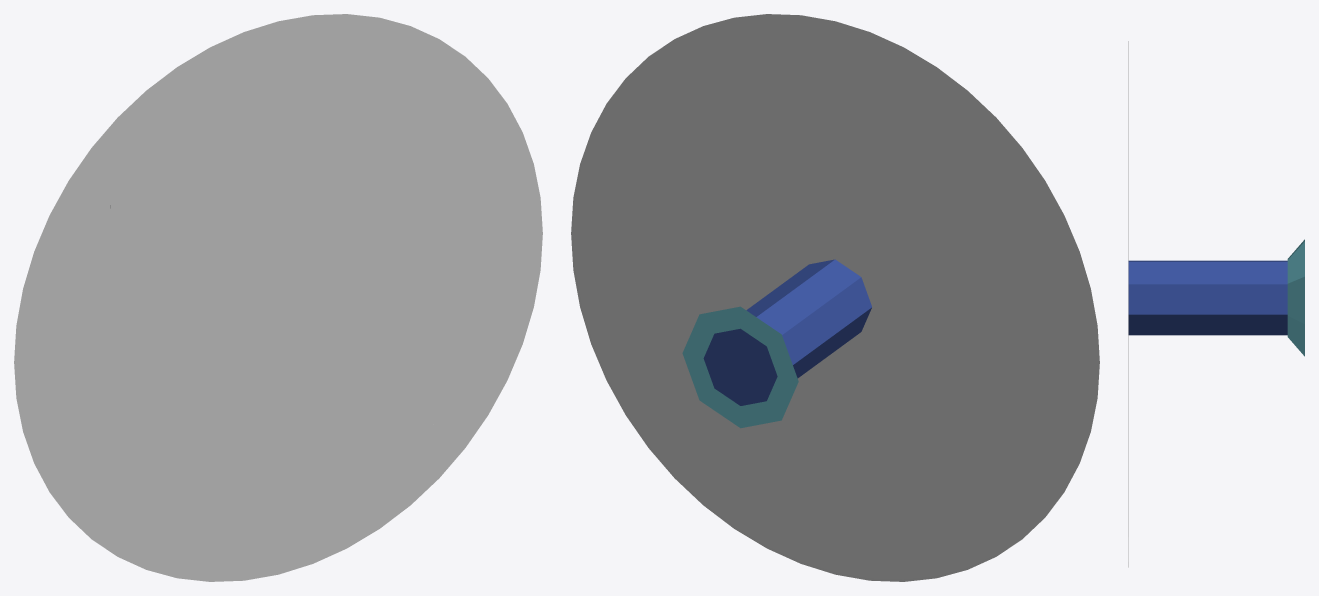
File: tinker.obj
The picture shows the model from 3 angles, left to right: view 1: azimuth 30°, elevation 25°; view 2: azimuth 150°, elevation 25°; view 3: azimuth 270°, elevation 25°; orthographic projection. The views are drawn at different scales.
Parts seen in each view (by area): view 1: group_0_-1023739142; view 2: group_0_-1023739142, group_0_3888547, group_0_7720667; view 3: group_0_3888547, group_0_7720667, group_0_-1023739142.
Part boxes in pixels (left/top/right/bottom): group_0_-1023739142: left=14, top=14, right=542, bottom=581; group_0_-1023739142: left=571, top=14, right=1099, bottom=581; group_0_3888547: left=703, top=259, right=871, bottom=405; group_0_7720667: left=682, top=306, right=798, bottom=428; group_0_3888547: left=1128, top=260, right=1287, bottom=335; group_0_7720667: left=1287, top=239, right=1304, bottom=356; group_0_-1023739142: left=1128, top=41, right=1128, bottom=567.
Size of the model in its own units: 100 by 100 by 31.08.
